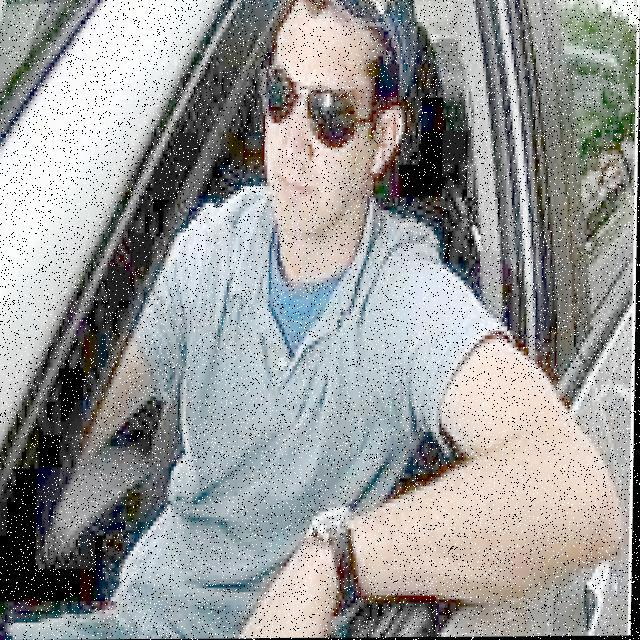noSeatbelt: (144, 174, 423, 548)
